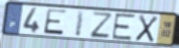4: (22, 6, 41, 35)
E: (111, 13, 138, 41), (42, 8, 68, 36)
I: (74, 9, 86, 37)
X: (134, 13, 160, 44)
Z: (89, 10, 113, 39)
